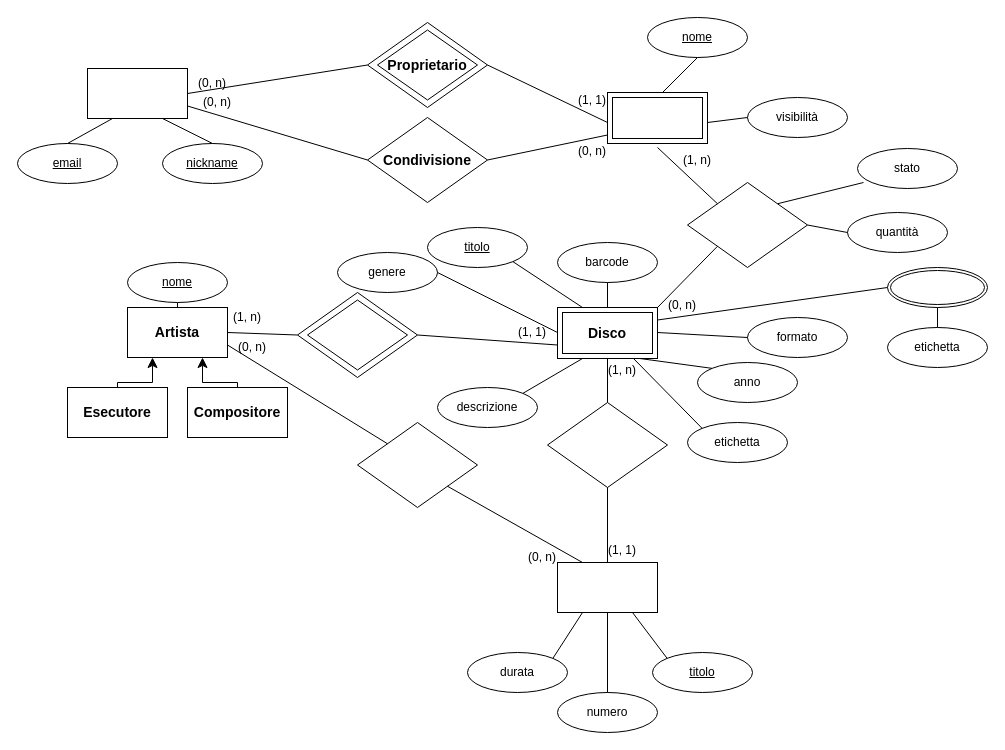
The diagram is 1005 pixels wide and 750 high, and some of its shapes have lost their labels. Here are the shapes that lost their labels. From the top down, the box of each, then its label:
(86, 68, 188, 118): Collezionista
(606, 92, 708, 144): Collezione
(686, 182, 808, 268): Catalogo
(886, 266, 988, 308): immagine
(306, 299, 408, 370): Autore
(356, 422, 478, 508): Collaborazione
(546, 402, 668, 488): Composto
(556, 562, 658, 612): Traccia
